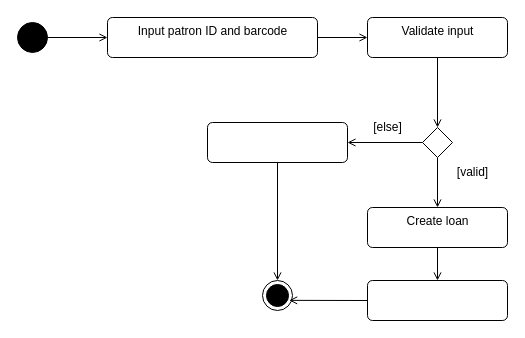
The diagram is 525 pixels wide and 338 high, and some of its shapes have lost their labels. The shapes that lost their labels are listed below. From the top down, each one's centre as x and y in pixels, then its label:
At pixel 277 142: "Display error".
At pixel 437 300: "Display new loan details".
